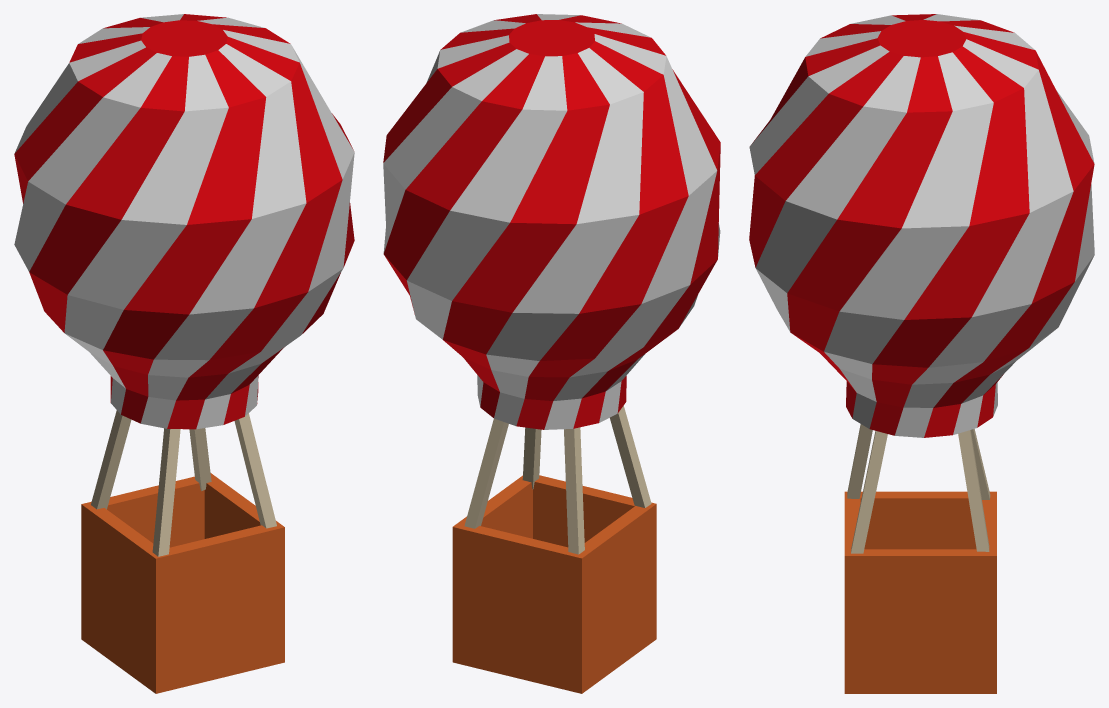
Rendered from HotAirBaloon.fbx.
The picture shows the model from 3 angles, left to right: view 1: azimuth 30°, elevation 25°; view 2: azimuth 150°, elevation 25°; view 3: azimuth 270°, elevation 25°; orthographic projection. The views are drawn at different scales.
Parts seen in each view (by area): view 1: Cylinder, Cube, Cube.003, Cube.004, Cube.002, Cube.001; view 2: Cylinder, Cube, Cube.002, Cube.001, Cube.003, Cube.004; view 3: Cylinder, Cube, Cube.004, Cube.001, Cube.003, Cube.002.
Part boxes in pixels (bbox=[...]): Cylinder: bbox=[14, 14, 354, 429]; Cube: bbox=[81, 473, 284, 693]; Cube.003: bbox=[152, 428, 180, 556]; Cube.004: bbox=[234, 413, 276, 528]; Cube.002: bbox=[91, 410, 131, 509]; Cube.001: bbox=[189, 428, 211, 490]; Cylinder: bbox=[383, 14, 720, 429]; Cube: bbox=[452, 475, 656, 693]; Cube.002: bbox=[564, 427, 584, 554]; Cube.001: bbox=[464, 418, 508, 528]; Cube.003: bbox=[610, 405, 651, 507]; Cube.004: bbox=[522, 427, 541, 489]; Cylinder: bbox=[749, 14, 1094, 437]; Cube: bbox=[844, 491, 996, 693]; Cube.004: bbox=[851, 431, 887, 553]; Cube.001: bbox=[958, 430, 989, 551]; Cube.003: bbox=[847, 424, 872, 498]; Cube.002: bbox=[970, 429, 990, 499].
Bounding box in the file's own units: 4.54 × 9.04 × 4.54.
